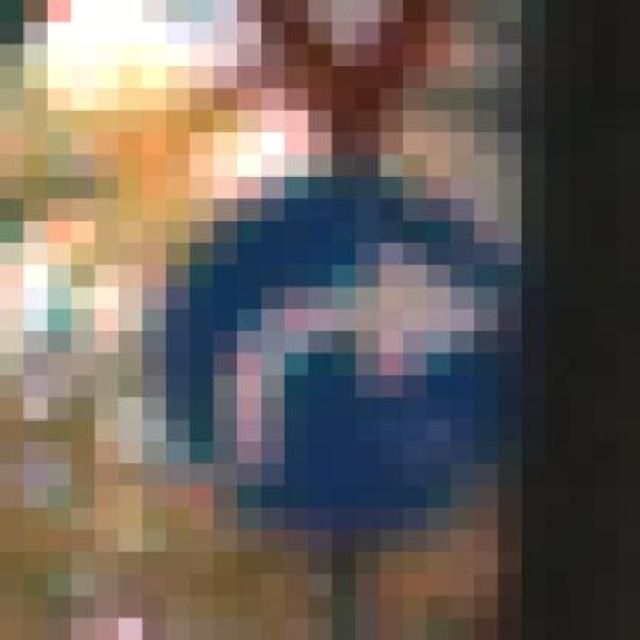Turn right ahead: (118, 154, 570, 574)
